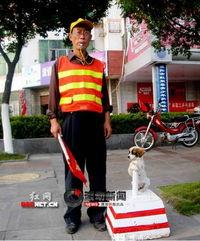up: (44, 15, 120, 233)
